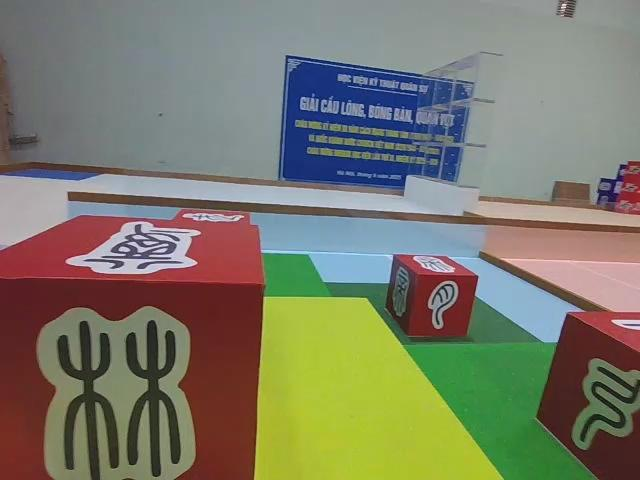R2 Fake: (0, 216, 269, 480), (538, 306, 640, 480), (385, 251, 482, 337)
